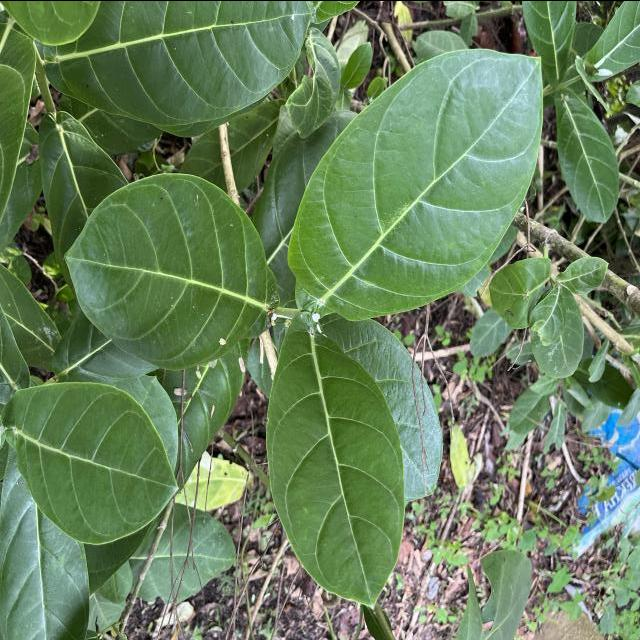Calotropis gigantea: (282, 39, 550, 324), (60, 165, 276, 373), (262, 324, 410, 610), (40, 0, 321, 131), (2, 378, 182, 549), (552, 88, 622, 226)
